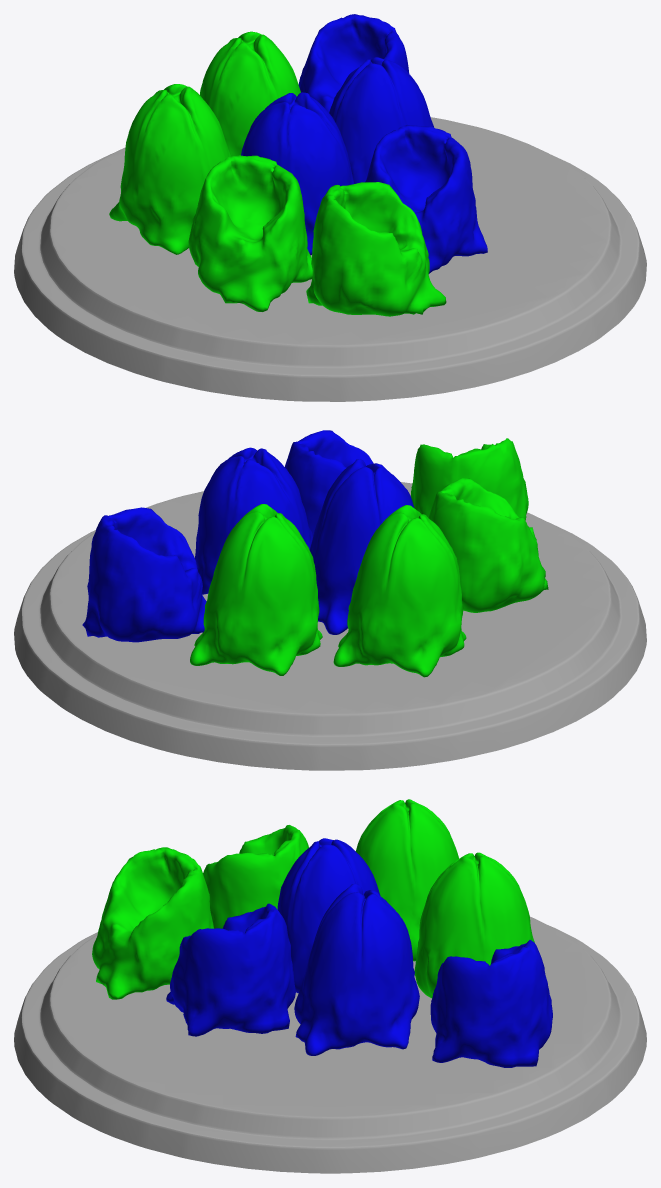
Rendered from EggsStaged.fbx.
3 renders of one model, top to bottom at view 1: azimuth 30°, elevation 25°; view 2: azimuth 150°, elevation 25°; view 3: azimuth 270°, elevation 25°, orthographic.
Parts seen in each view (by area): view 1: pCircle1, Destroyed_low1, Destroyed_low2, AlienEgg_low1, Destroyed_low, AlienEgg_low3, AlienEgg_low, AlienEgg_low2, Destroyed_low3; view 2: pCircle1, AlienEgg_low2, AlienEgg_low1, Destroyed_low3, Destroyed_low1, AlienEgg_low3, AlienEgg_low, Destroyed_low2, Destroyed_low; view 3: pCircle1, AlienEgg_low, Destroyed_low, Destroyed_low2, Destroyed_low3, AlienEgg_low2, AlienEgg_low1, AlienEgg_low3, Destroyed_low1.
Boxes of the visible parts, box(x1,y1,x2,y2) form: pCircle1: box(14, 117, 646, 401); Destroyed_low1: box(188, 155, 312, 311); Destroyed_low2: box(306, 182, 446, 316); AlienEgg_low1: box(109, 84, 230, 254); Destroyed_low: box(365, 125, 487, 273); AlienEgg_low3: box(241, 92, 354, 255); AlienEgg_low: box(329, 57, 433, 183); AlienEgg_low2: box(200, 31, 300, 155); Destroyed_low3: box(298, 14, 409, 112); pCircle1: box(14, 482, 646, 770); AlienEgg_low2: box(190, 504, 322, 675); AlienEgg_low1: box(333, 505, 466, 677); Destroyed_low3: box(82, 507, 206, 642); Destroyed_low1: box(428, 478, 548, 612); AlienEgg_low3: box(309, 459, 414, 634); AlienEgg_low: box(195, 447, 312, 594); Destroyed_low2: box(411, 438, 528, 520); Destroyed_low: box(285, 430, 373, 536); pCircle1: box(14, 916, 646, 1173); AlienEgg_low: box(294, 883, 419, 1055); Destroyed_low: box(166, 903, 295, 1036); Destroyed_low2: box(92, 847, 213, 999); Destroyed_low3: box(430, 940, 552, 1067); AlienEgg_low2: box(414, 852, 534, 998); AlienEgg_low1: box(355, 799, 458, 961); AlienEgg_low3: box(277, 838, 380, 993); Destroyed_low1: box(203, 825, 308, 928).
Bounding box in the file's own units: 245 × 77.71 × 245.
